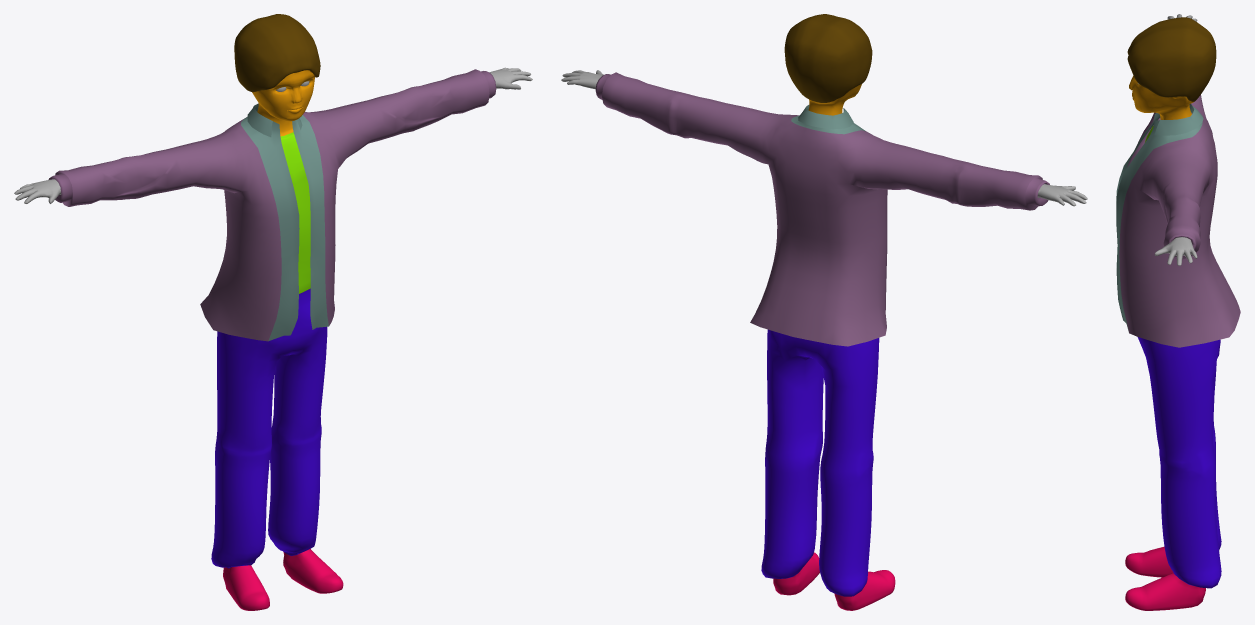
File: Syuhan_Texture_Unity2.fbx
3 views of the same model, side by side, from view 1: azimuth 30°, elevation 25°; view 2: azimuth 150°, elevation 25°; view 3: azimuth 270°, elevation 25° (orthographic).
Parts seen in each view (by area): view 1: polySurface2; view 2: polySurface2; view 3: polySurface2.
Part boxes in pixels (bbox=[...]): polySurface2: bbox=[14, 14, 532, 610]; polySurface2: bbox=[561, 14, 1087, 610]; polySurface2: bbox=[1116, 14, 1240, 610].
Size of the model in its own units: 143 by 150 by 29.97.
